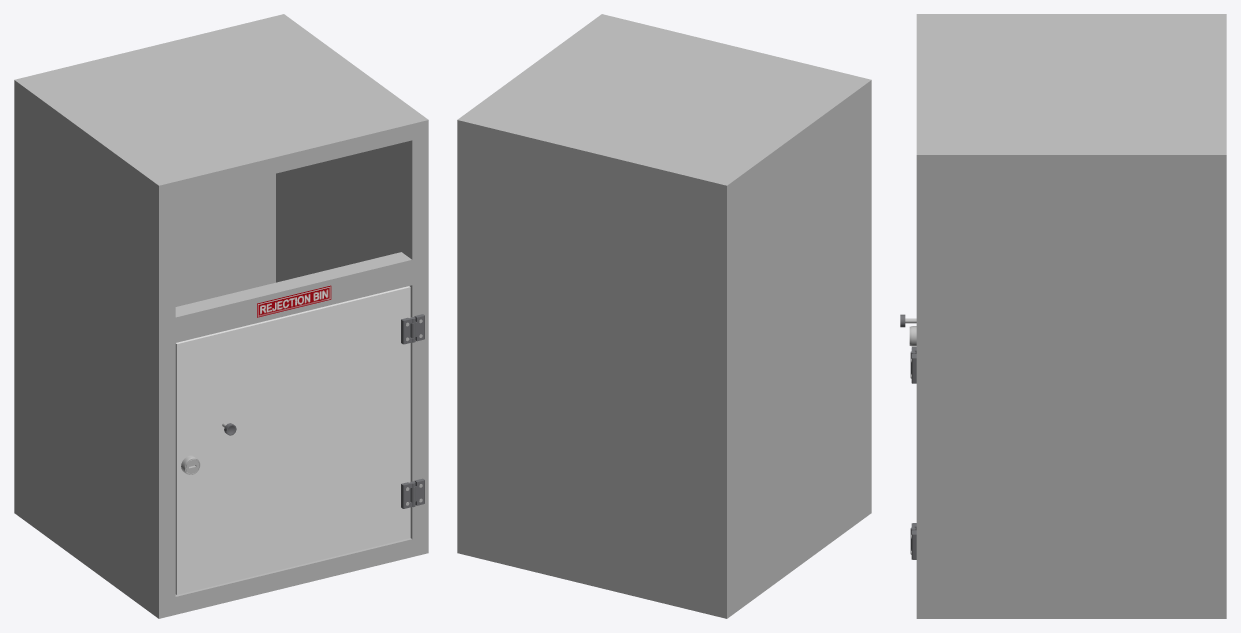
Rendered from Rejection_Bin_Fbx.fbx.
The picture shows the model from 3 angles, left to right: view 1: azimuth 30°, elevation 25°; view 2: azimuth 150°, elevation 25°; view 3: azimuth 270°, elevation 25°; orthographic projection. The views are drawn at different scales.
Visible parts, largest first — view 1: Box, Box_Door, Sticker; view 2: Box; view 3: Box.
Boxes of the visible parts, left/top/right/bottom form: Box: left=14, top=14, right=428, bottom=618; Box_Door: left=175, top=286, right=415, bottom=594; Sticker: left=257, top=285, right=331, bottom=317; Box: left=457, top=14, right=871, bottom=618; Box: left=910, top=14, right=1226, bottom=618.
Bounding box in the file's own units: 0.5264 × 0.8075 × 0.5144.
Materials: 4 (1 with a texture image).
